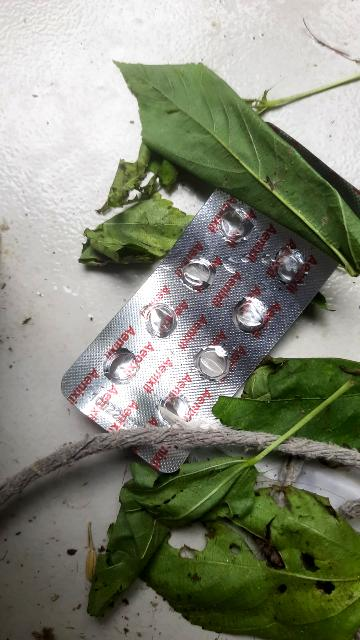medicine: (68, 173, 360, 480)
